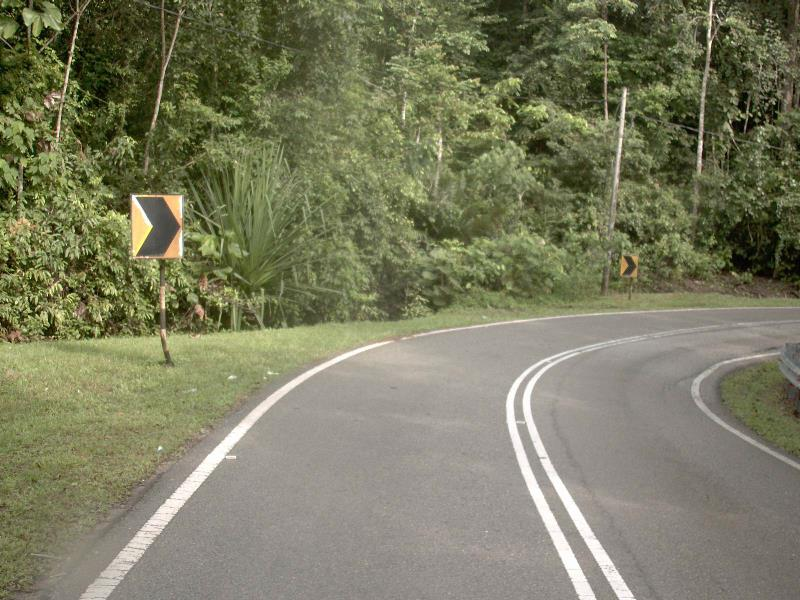traffic_sign: (119, 182, 193, 274)
